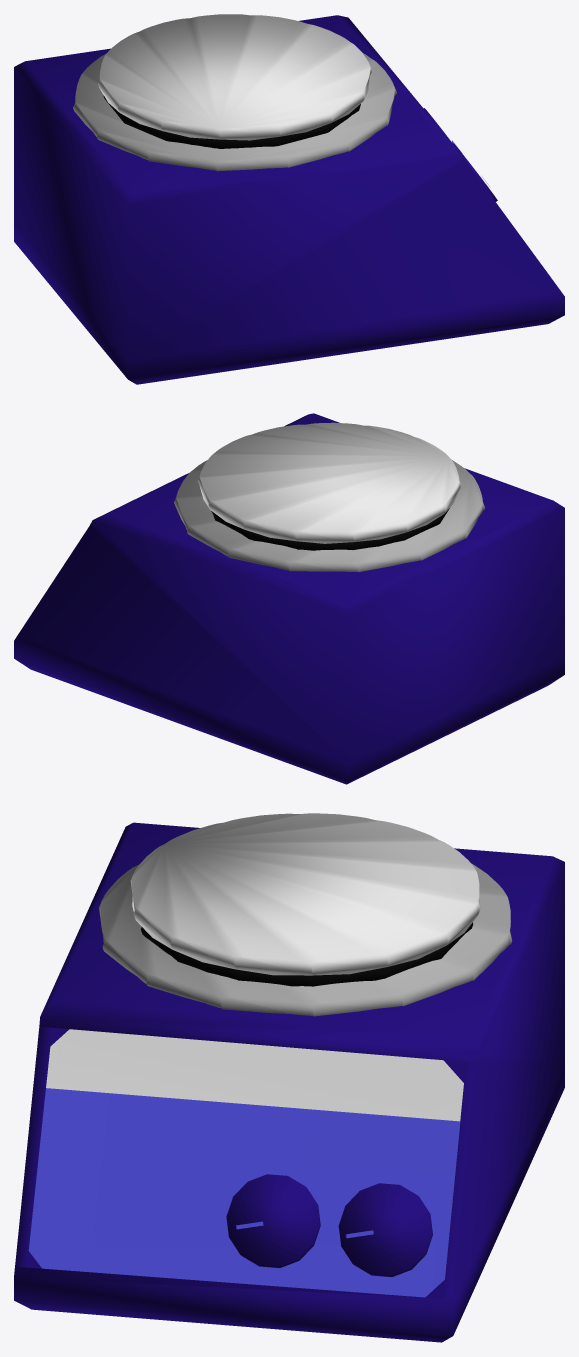
The model's file is aquecedor magnetico.fbx.
3 renders of one model, top to bottom at view 1: azimuth 30°, elevation 25°; view 2: azimuth 150°, elevation 25°; view 3: azimuth 270°, elevation 25°, orthographic. The views are drawn at different scales.
Parts seen in each view (by area): view 1: aquecedor; view 2: aquecedor; view 3: aquecedor.
Part boxes in pixels (left/top/right/bottom): aquecedor: left=14, top=14, right=564, bottom=384; aquecedor: left=14, top=413, right=564, bottom=784; aquecedor: left=14, top=813, right=564, bottom=1342.
Size of the model in its own units: 79.27 by 38.13 by 65.09.
